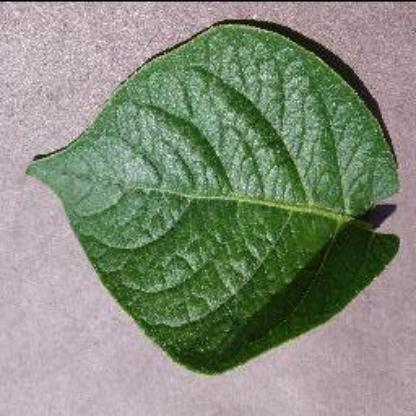Healthy-plant: (20, 20, 406, 376)
